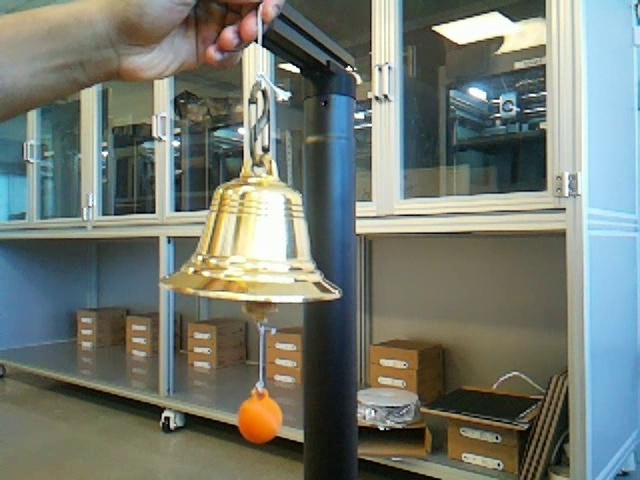bell: (161, 172, 341, 302)
pole: (297, 68, 360, 480)
